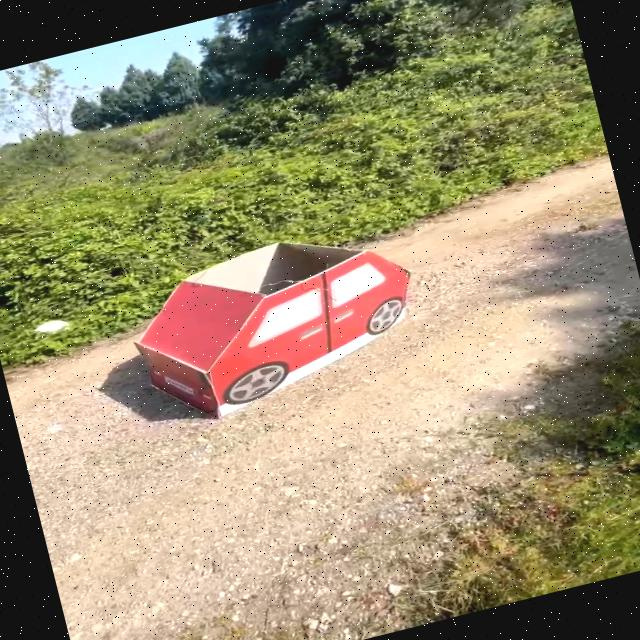red_car: (78, 199, 472, 450)
